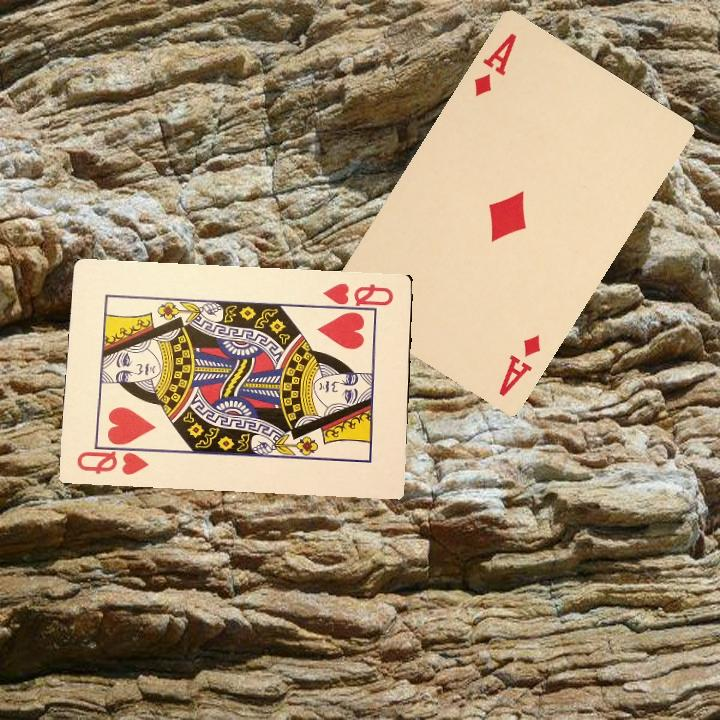Ad: (470, 28, 520, 98), (494, 330, 544, 399)
Qh: (72, 441, 153, 477), (319, 279, 396, 315)
